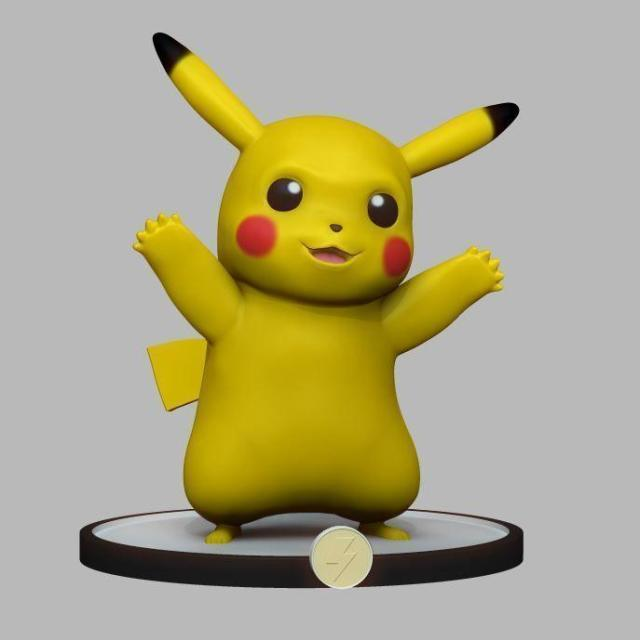pikachu: (137, 31, 518, 548)
